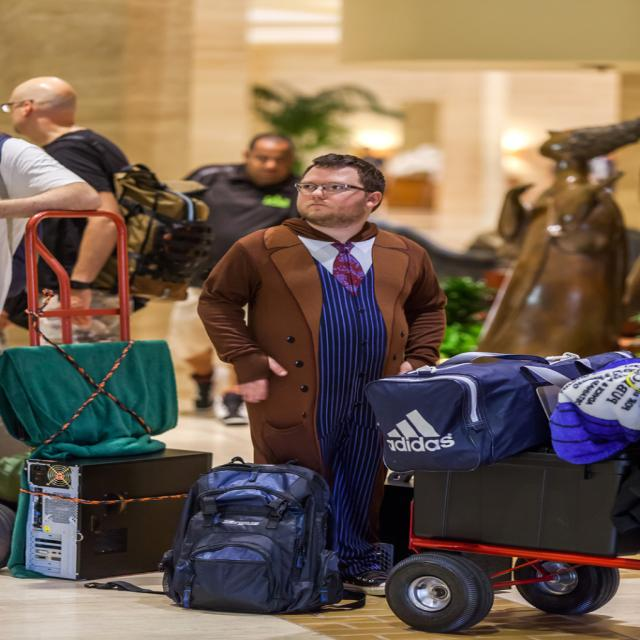backpack: (364, 354, 579, 482), (41, 144, 202, 298), (172, 461, 336, 612)
